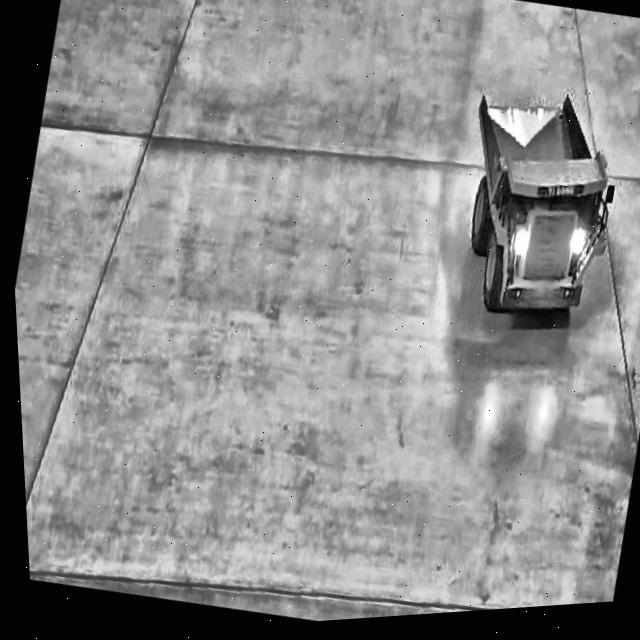dump_truck: (422, 85, 634, 354)
